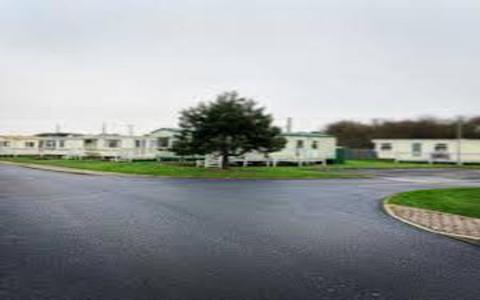Proper road: (18, 173, 207, 277), (233, 182, 384, 289)
